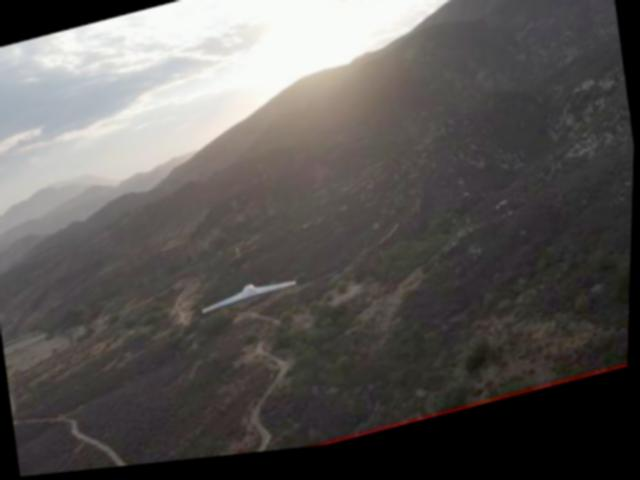iha: (200, 276, 300, 326)
